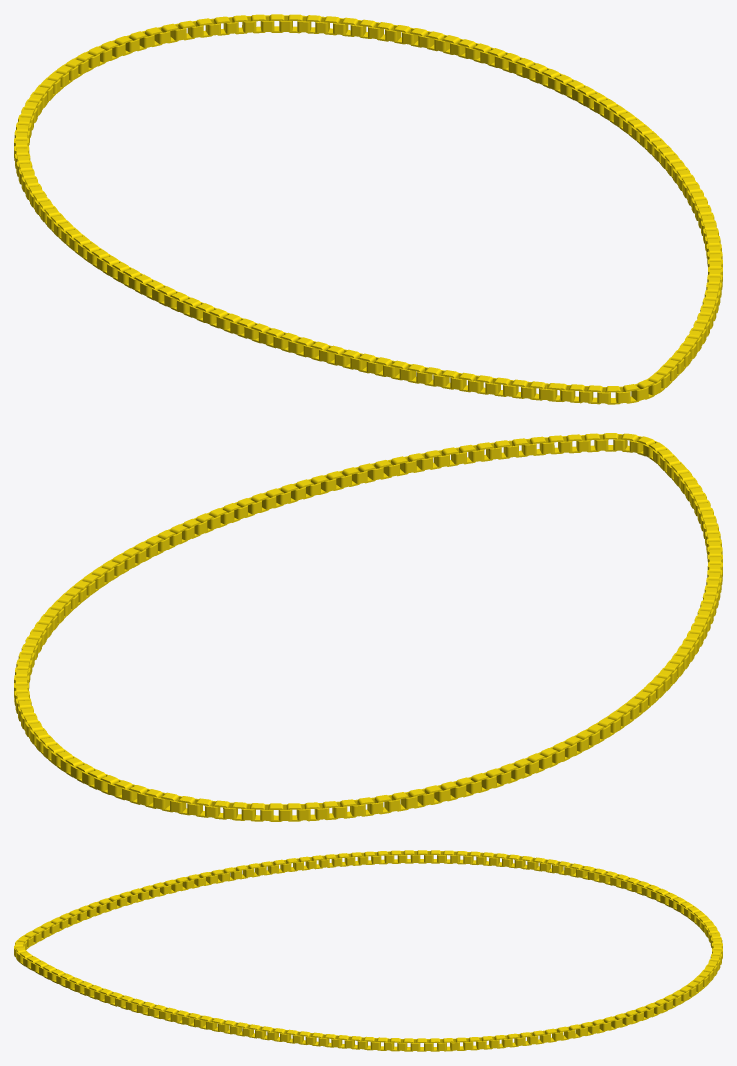
File: chain.glb
The picture shows the model from 3 angles, top to bottom: view 1: azimuth 30°, elevation 25°; view 2: azimuth 150°, elevation 25°; view 3: azimuth 270°, elevation 25°; orthographic projection. The views are drawn at different scales.
Size of the model in its own units: 0.0778 by 0.00185 by 0.1209.
